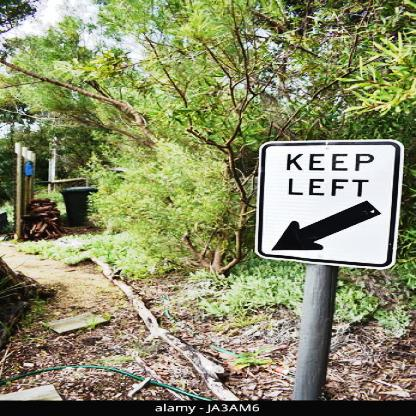Keep left: (258, 139, 398, 272)
